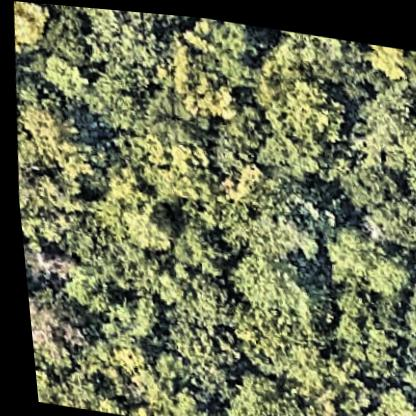tree-top: (38, 3, 166, 107), (160, 11, 264, 126), (152, 270, 246, 388), (223, 241, 325, 348), (8, 87, 101, 198), (206, 173, 318, 262), (122, 110, 217, 208), (321, 274, 407, 376), (276, 336, 368, 416), (315, 216, 410, 293), (65, 205, 142, 296), (273, 67, 352, 151), (349, 70, 416, 164), (83, 282, 160, 358), (253, 21, 352, 80), (22, 286, 90, 370), (13, 166, 80, 249), (154, 204, 230, 276), (354, 36, 416, 121), (245, 122, 327, 185), (210, 363, 305, 416), (117, 359, 204, 416), (27, 358, 116, 413), (356, 173, 416, 249), (114, 188, 181, 254), (35, 45, 98, 106), (206, 114, 259, 184), (388, 266, 416, 392), (359, 35, 416, 84), (18, 239, 79, 284), (10, 1, 54, 59), (362, 377, 416, 416), (401, 130, 416, 202)
